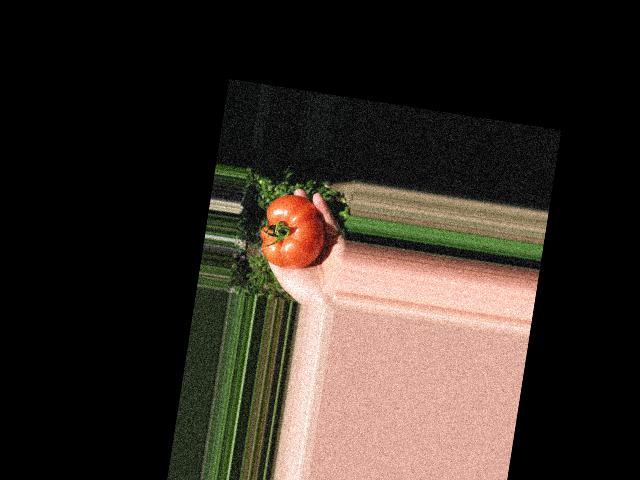tomato: (256, 190, 330, 272)
